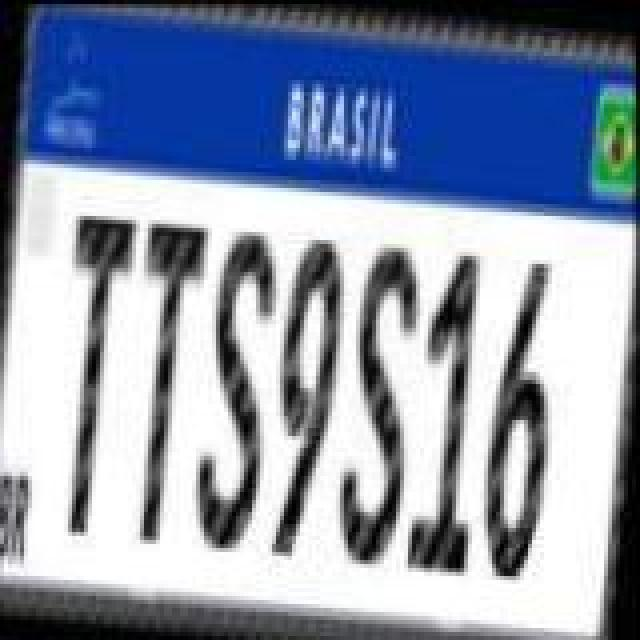1: (402, 244, 502, 580)
6: (474, 248, 574, 588)
9: (258, 228, 358, 564)
S: (330, 234, 438, 570), (188, 220, 292, 556)
T: (44, 208, 144, 540), (116, 214, 212, 546)
